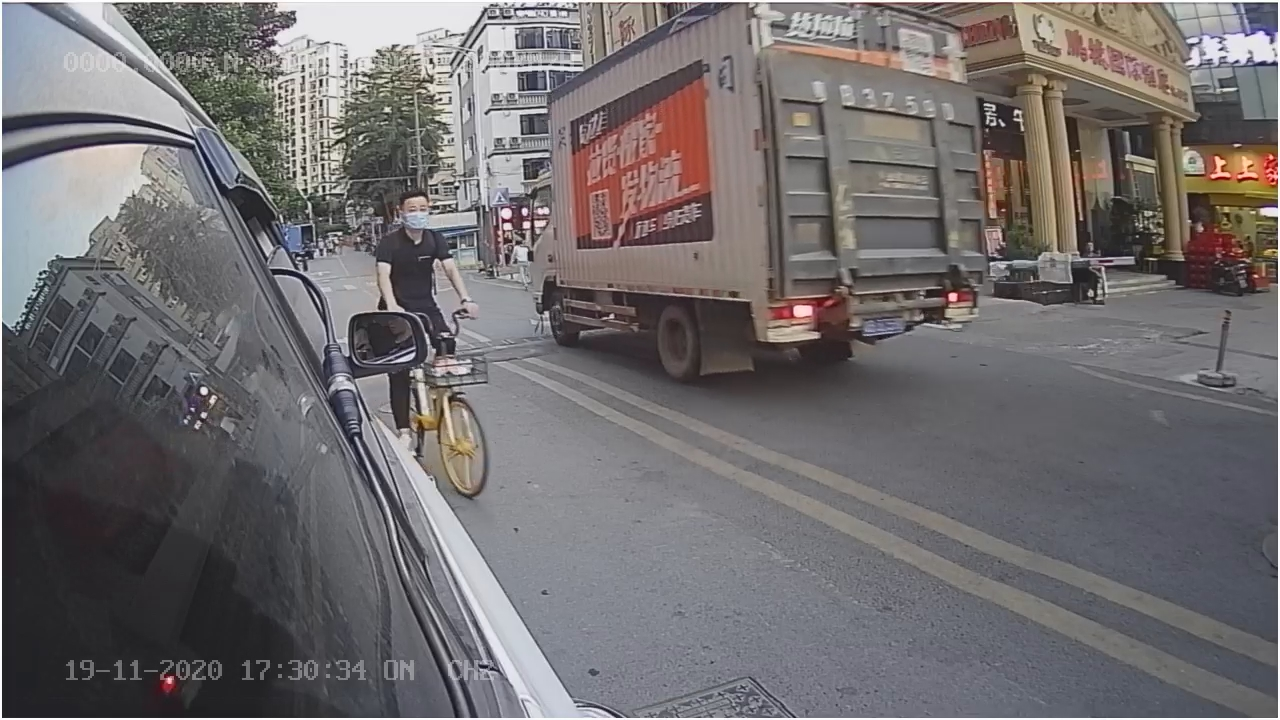person: (371, 185, 469, 310)
